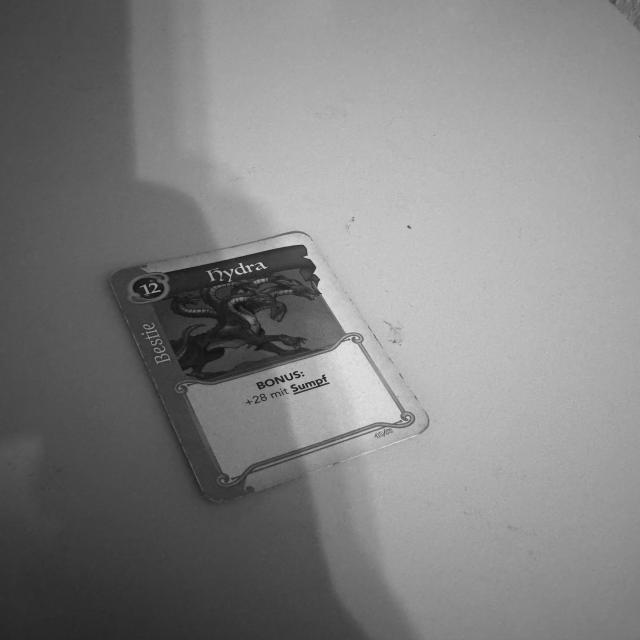Hydra: (101, 229, 441, 510)
